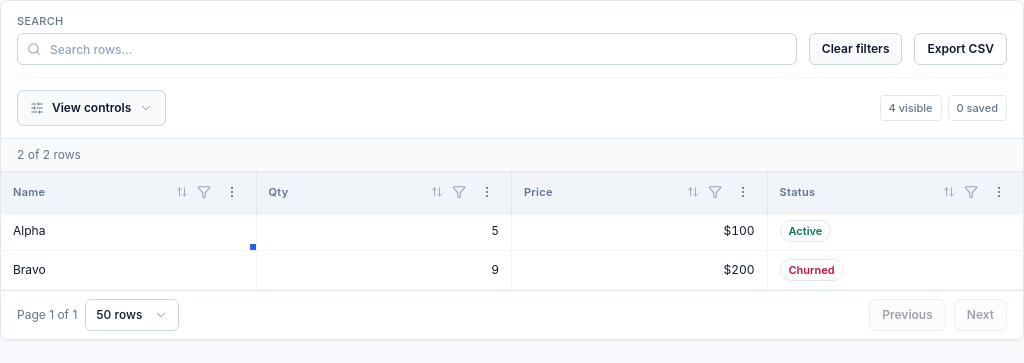
Test case: DataGrid cell editing › surfaces a throwing parseValue as an error instead of crashing
Double-click the text "Alpha" at (129, 232), box [1,212,256,251]
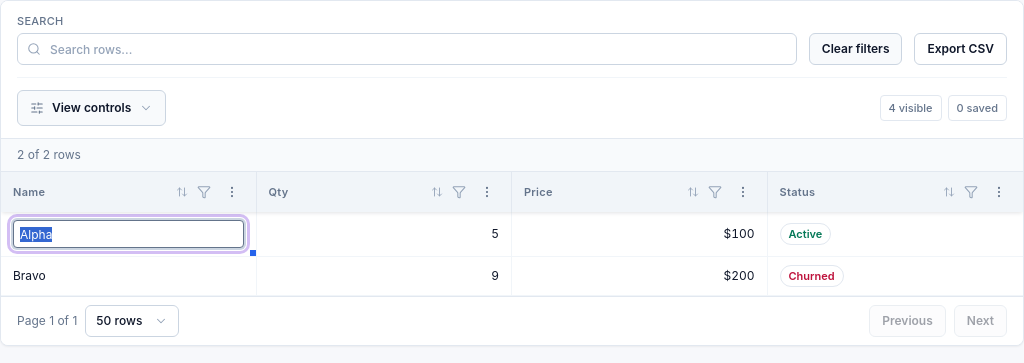
Replace the text in the field showing "Alpha" with "X". click: (128, 234)
box: [13,220,244,248]
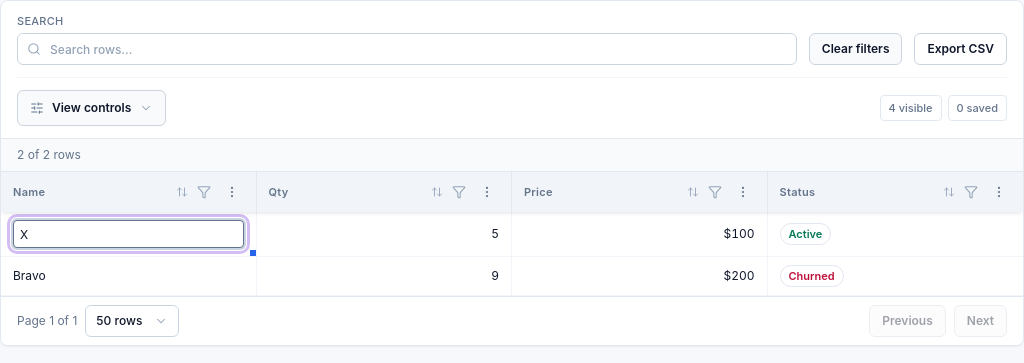
Press Enter in the field showing "Alpha", box [13,220,244,248]
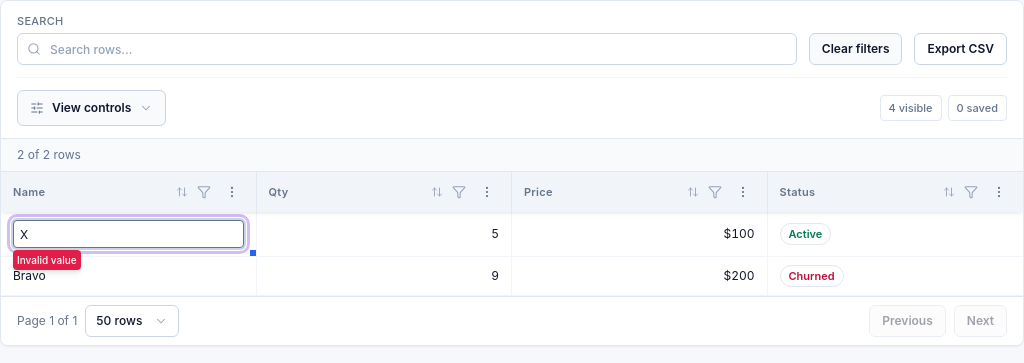
Now the message "Invalid value" is shown, box [13,250,81,270]
